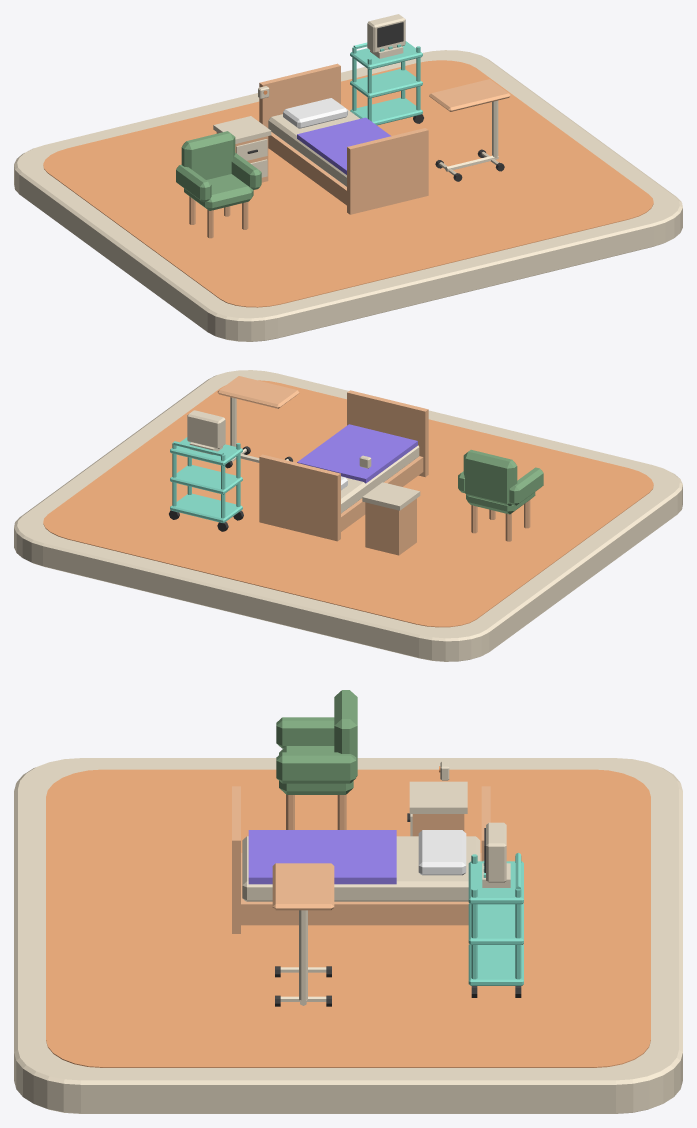
File: room.fbx
The picture shows the model from 3 angles, top to bottom: view 1: azimuth 30°, elevation 25°; view 2: azimuth 150°, elevation 25°; view 3: azimuth 270°, elevation 25°; orthographic projection. The views are drawn at different scales.
Parts seen in each view (by area): view 1: COM-02 Floor Surface, COM-01 Rounded Base Direct, End board, End board.001, Blanket, Back, Mattress, Table top, Frame, Cushion, Pillow, Tray.001 (+7 smaller); view 2: COM-02 Floor Surface, COM-01 Rounded Base Direct, End board.001, Blanket, End board, Body, Back, Table top, Housing, Mattress, Tray, Tray.001 (+5 smaller); view 3: COM-02 Floor Surface, COM-01 Rounded Base Direct, Blanket, Mattress, Frame, Table top, Arm.001, Pillow, Tray, Tray.001, Top, Arm (+7 smaller).
Part boxes in pixels (<box>): COM-02 Floor Surface: <box>43,60,653,307</box>; COM-01 Rounded Base Direct: <box>14,50,682,341</box>; End board: <box>347,128,428,214</box>; End board.001: <box>259,63,340,148</box>; Blanket: <box>297,117,391,174</box>; Back: <box>181,131,235,179</box>; Mattress: <box>268,102,359,186</box>; Table top: <box>429,79,510,111</box>; Frame: <box>268,132,346,205</box>; Cushion: <box>184,174,253,210</box>; Pillow: <box>283,98,347,128</box>; Tray.001: <box>350,69,422,98</box>; COM-02 Floor Surface: <box>43,380,653,627</box>; COM-01 Rounded Base Direct: <box>14,370,682,661</box>; End board.001: <box>259,454,340,541</box>; Blanket: <box>297,424,417,483</box>; End board: <box>347,390,428,477</box>; Body: <box>365,498,416,555</box>; Back: <box>463,449,517,505</box>; Table top: <box>217,376,299,408</box>; Housing: <box>187,410,225,448</box>; Mattress: <box>341,445,419,513</box>; Tray: <box>170,493,242,523</box>; Tray.001: <box>170,465,242,494</box>; COM-02 Floor Surface: <box>46,769,650,1067</box>; COM-01 Rounded Base Direct: <box>14,758,682,1113</box>; Blanket: <box>248,830,396,884</box>; Mattress: <box>242,836,480,901</box>; Frame: <box>241,853,481,925</box>; Table top: <box>272,863,334,910</box>; Arm.001: <box>276,752,356,783</box>; Pillow: <box>418,830,466,875</box>; Tray: <box>468,944,523,985</box>; Tray.001: <box>468,903,523,944</box>; Top: <box>409,781,467,813</box>; Arm: <box>276,717,334,748</box>.
Bounding box in the file's own units: 600 × 156 × 520.
